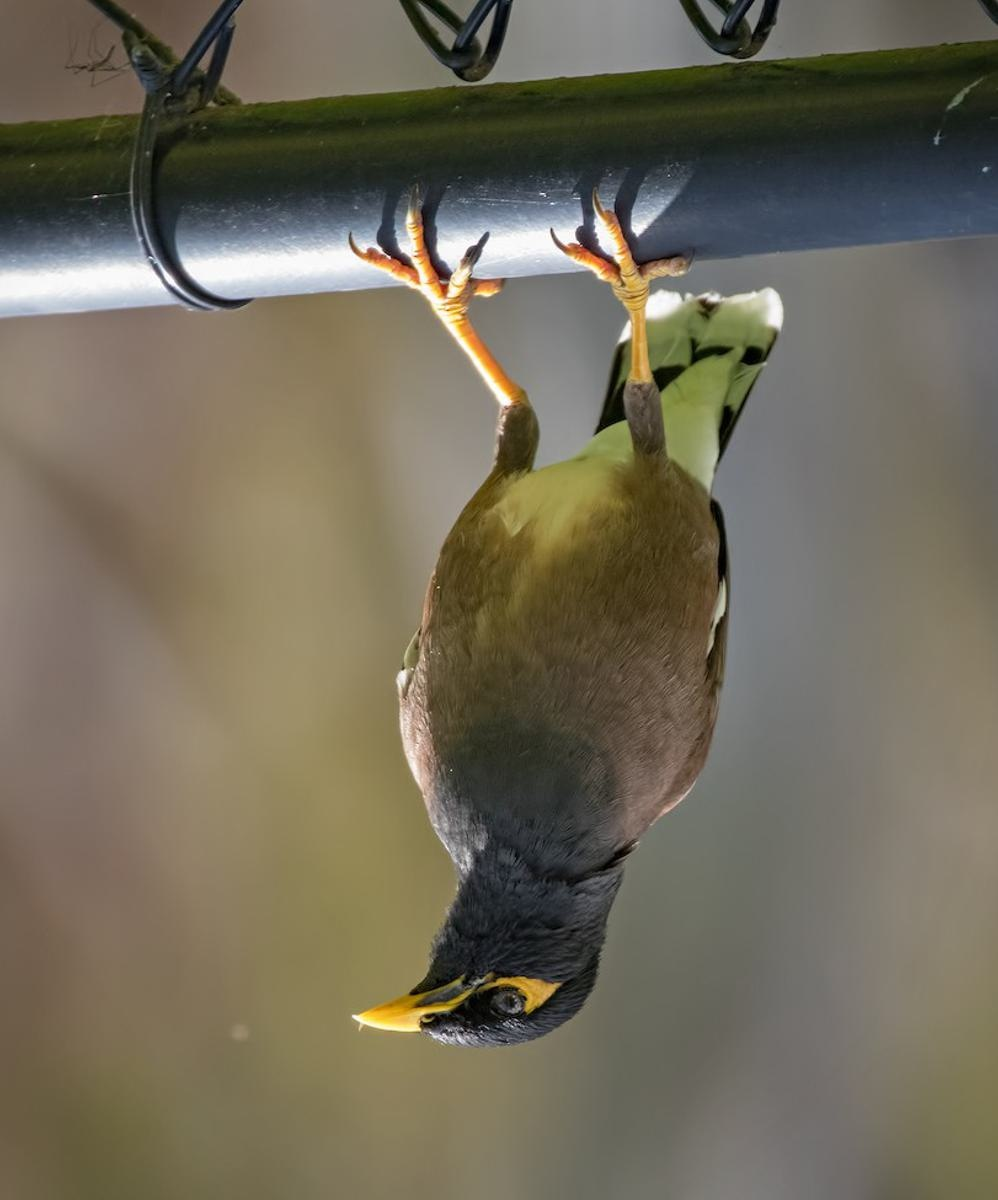myna: (322, 209, 786, 1067)
